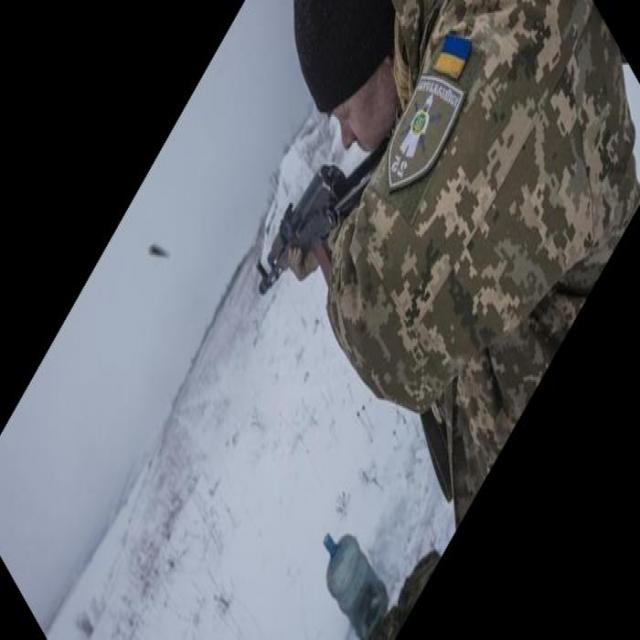weapon: (256, 132, 416, 298)
